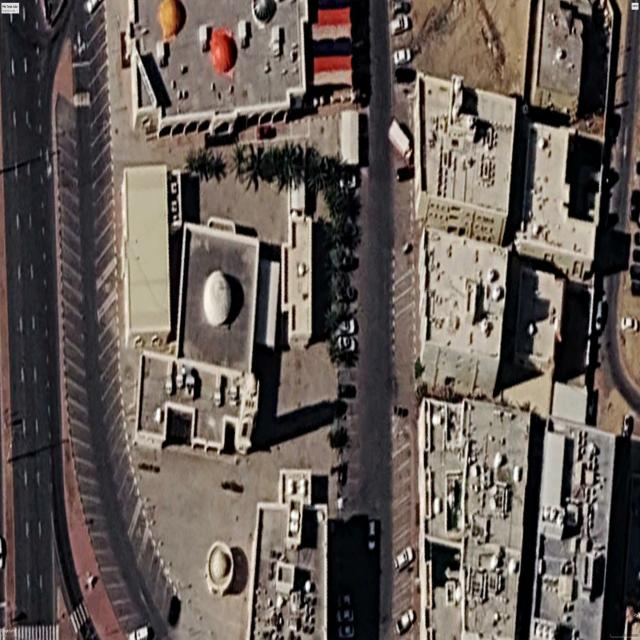mosque: (134, 223, 260, 454)
